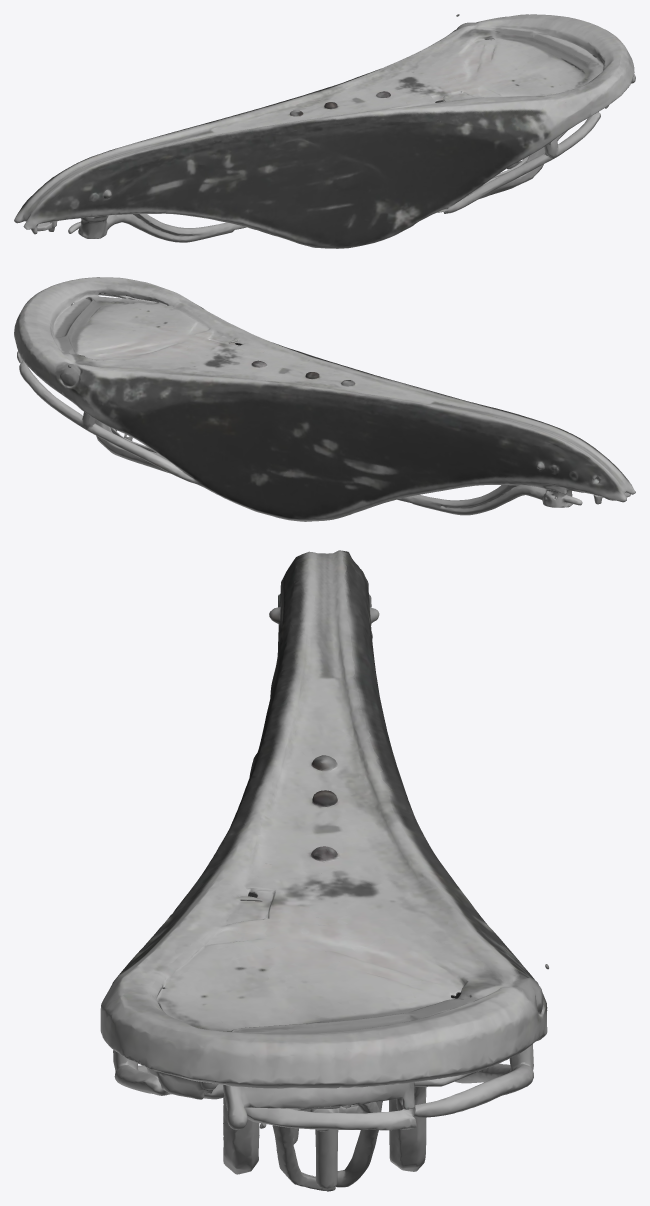
File: brooks.glb
The picture shows the model from 3 angles, top to bottom: view 1: azimuth 30°, elevation 25°; view 2: azimuth 150°, elevation 25°; view 3: azimuth 270°, elevation 25°; orthographic projection. The views are drawn at different scales.
Visible parts, largest first — view 1: geometry_0; view 2: geometry_0; view 3: geometry_0.
Boxes of the visible parts, x1=… form: geometry_0: x1=14, y1=14, x2=635, y2=248; geometry_0: x1=14, y1=277, x2=635, y2=521; geometry_0: x1=100, y1=550, x2=548, y2=1191.
Bounding box in the file's own units: 0.7197 × 0.1593 × 0.2352.
1 material, 1 textured.
